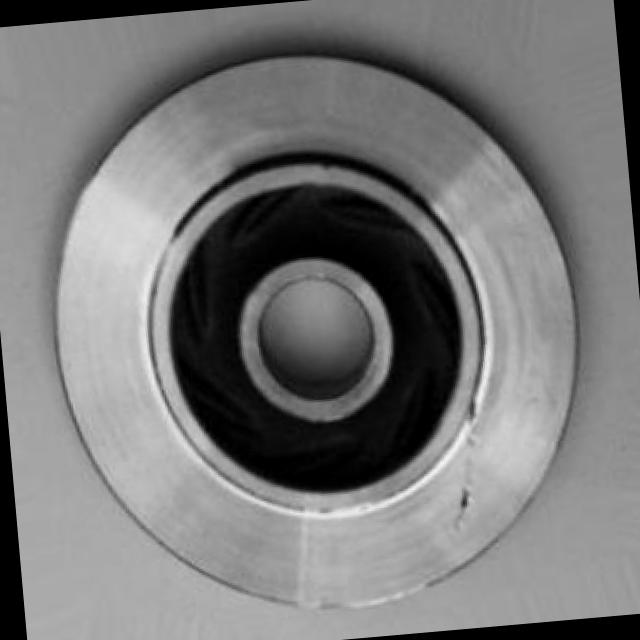Defect: (438, 473, 499, 531)
